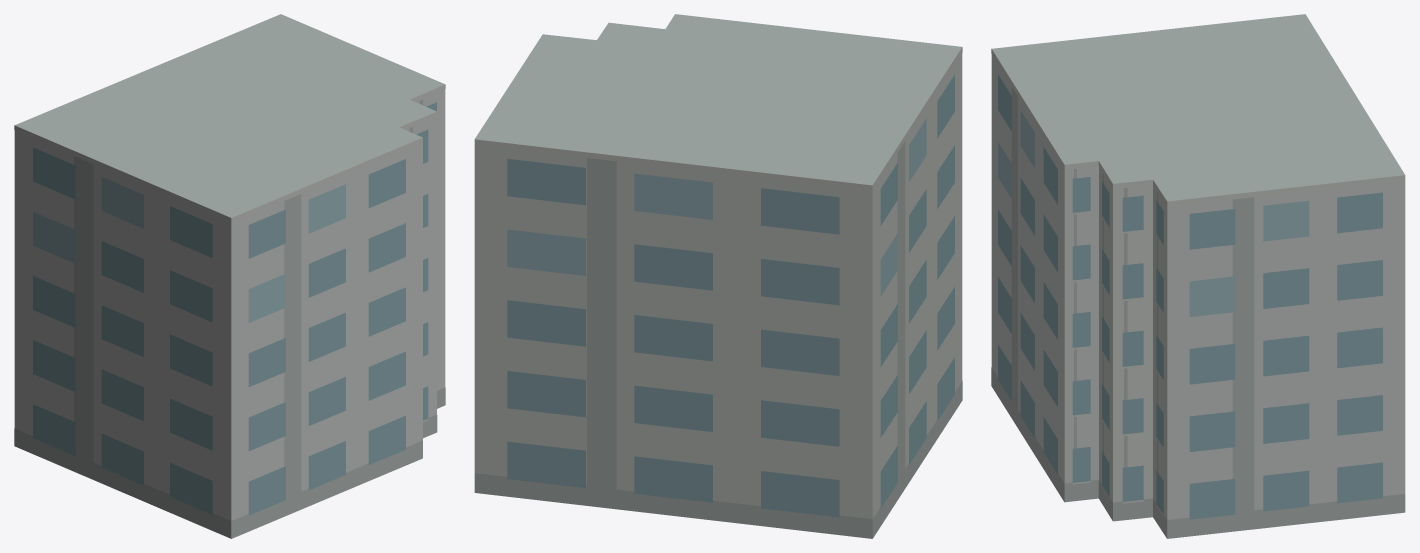
The model's file is survey-upis-32594738.glb.
3 views of the same model, side by side, from view 1: azimuth 30°, elevation 25°; view 2: azimuth 150°, elevation 25°; view 3: azimuth 270°, elevation 25° (orthographic). The views are drawn at different scales.
Parts seen in each view (by area): view 1: survey-upis-32594738.tmp; view 2: survey-upis-32594738.tmp; view 3: survey-upis-32594738.tmp.
Boxes of the visible parts, x1,y1,x2,y2 form: survey-upis-32594738.tmp: [14, 14, 445, 538]; survey-upis-32594738.tmp: [474, 14, 962, 538]; survey-upis-32594738.tmp: [991, 14, 1405, 538].
Bounding box in the file's own units: 18.23 × 15.3 × 17.01.
